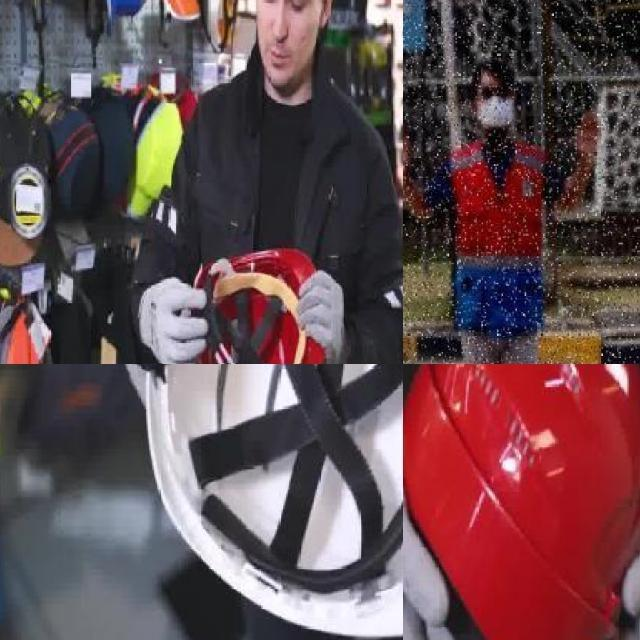apron: (403, 399, 492, 640), (575, 517, 640, 640), (138, 276, 207, 364), (296, 268, 347, 364)
